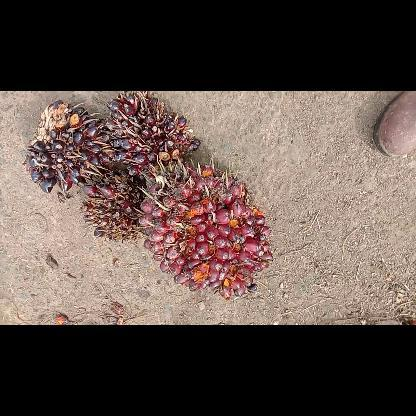TBS abnormal: (108, 91, 200, 179), (26, 100, 112, 190), (79, 172, 143, 240)
TBS masak: (137, 160, 273, 298)
